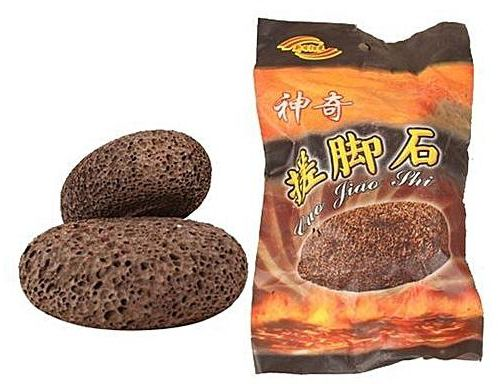volcanic_rock: (11, 218, 253, 337), (43, 125, 219, 225)
